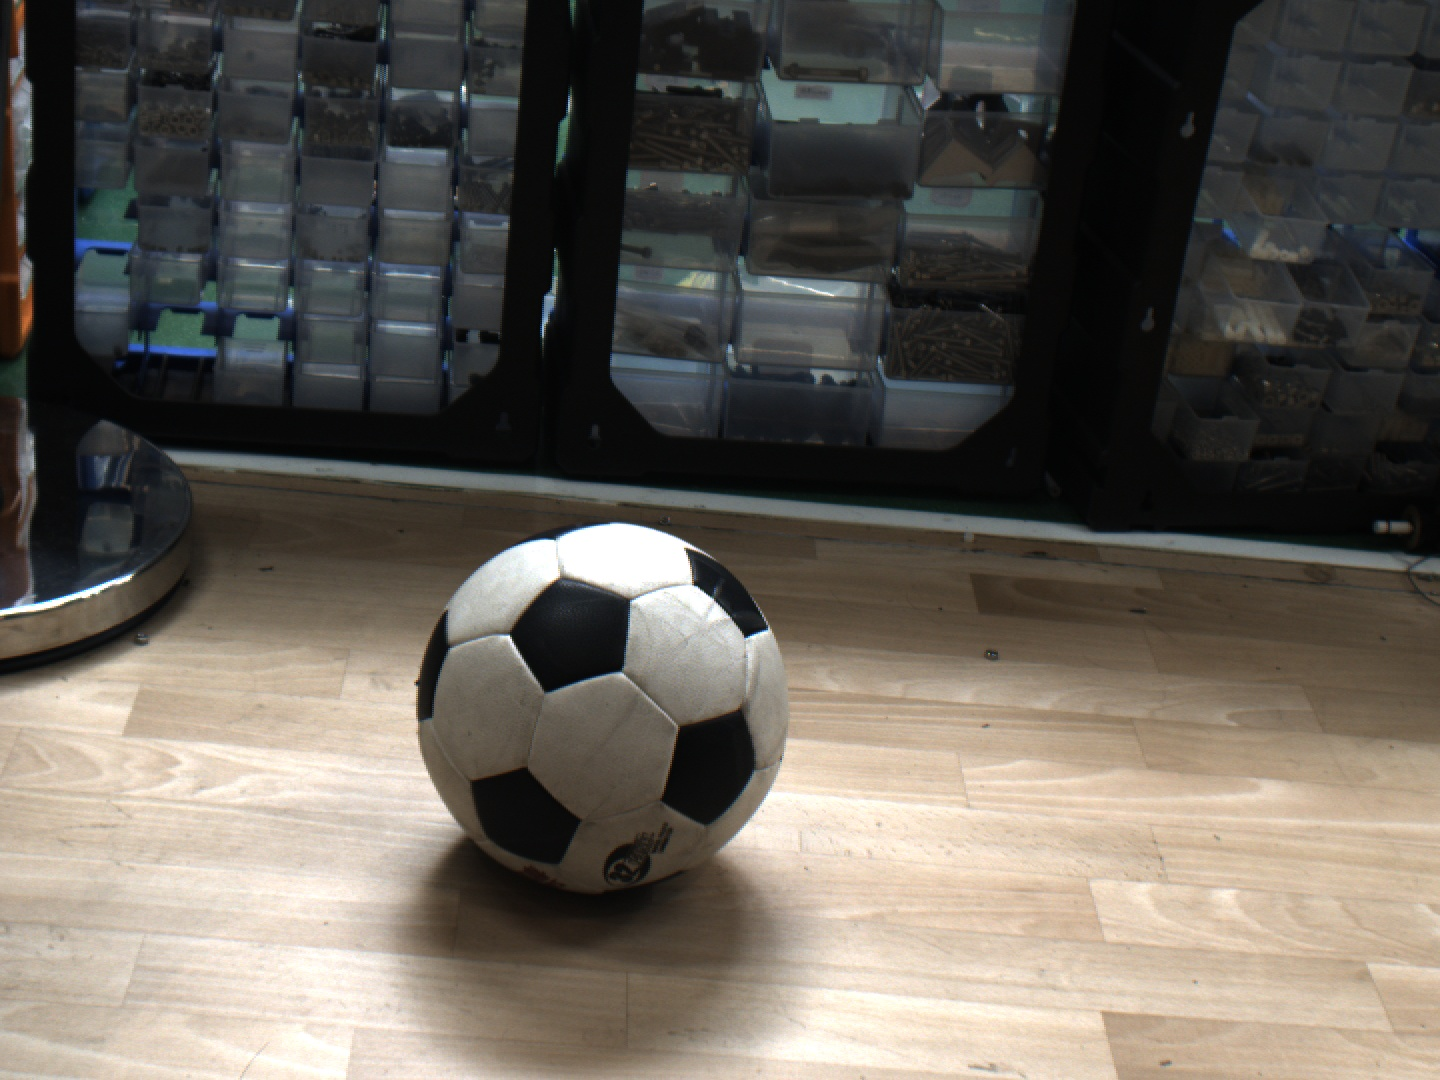ball: (397, 518, 815, 916)
